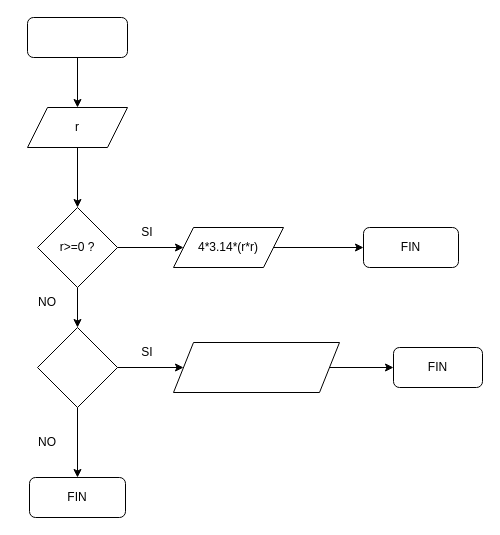
Some shapes in this 500 by 535 pixel diagram are drawn without their labels. Each missing label, with the centre of its shape:
Error: Radius cannot be negative: point (256, 367)
INICIO: point (77, 37)
r < 0 ?: point (77, 367)
